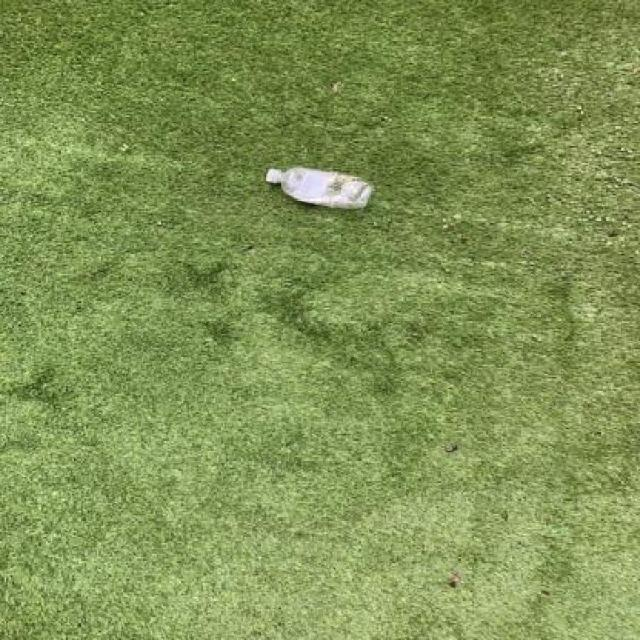trash: (266, 164, 377, 211)
